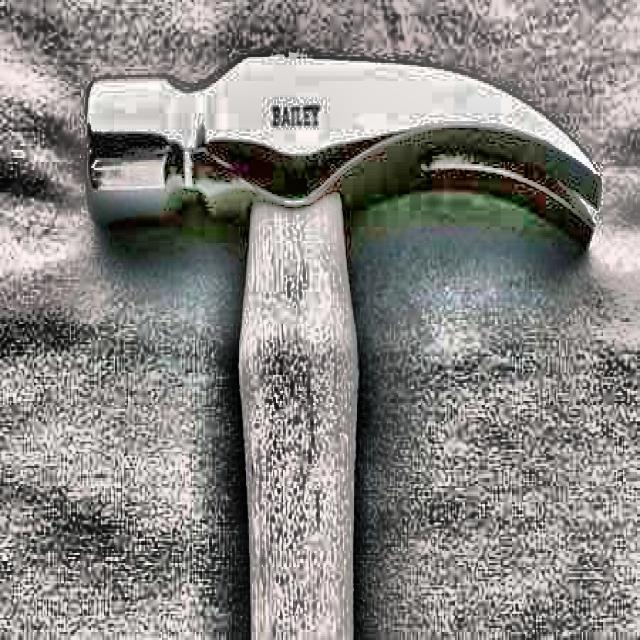hammer: (84, 59, 601, 640)
